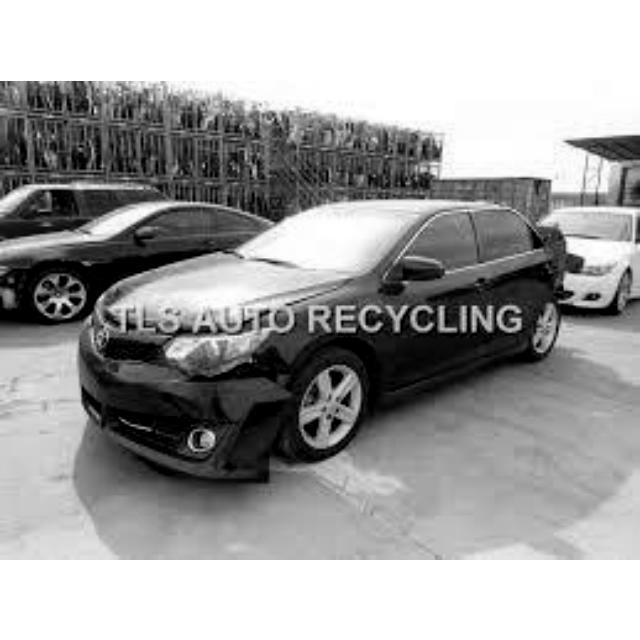bonnet-dent: (97, 278, 336, 327)
front-bumper-dent: (79, 357, 289, 475)
